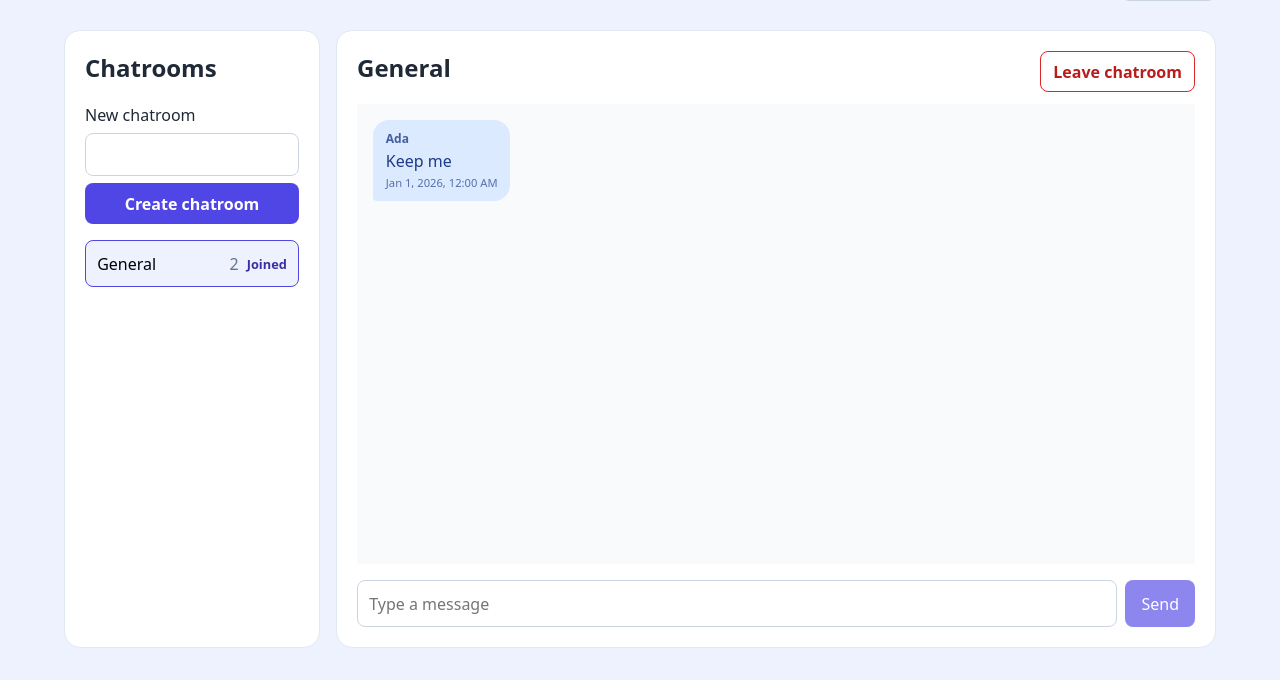
Test case: preserves the active room when leaving fails
The width and height of the screenshot is (1280, 680).
(page scrolled)
Type "unsent" into the field labelled "message".
click(737, 604); type("unsent")  # box [357,580,1118,627]
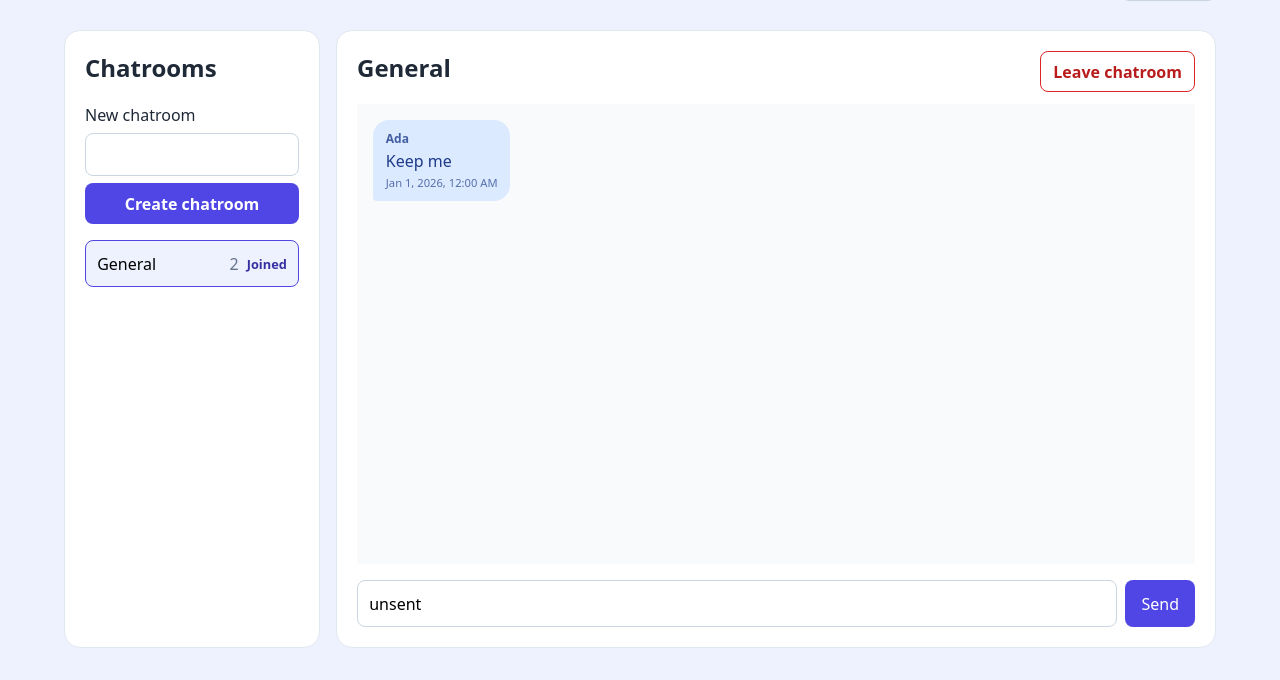
Click the button "Leave chatroom".
click(1118, 72)  # box [1040,51,1195,92]
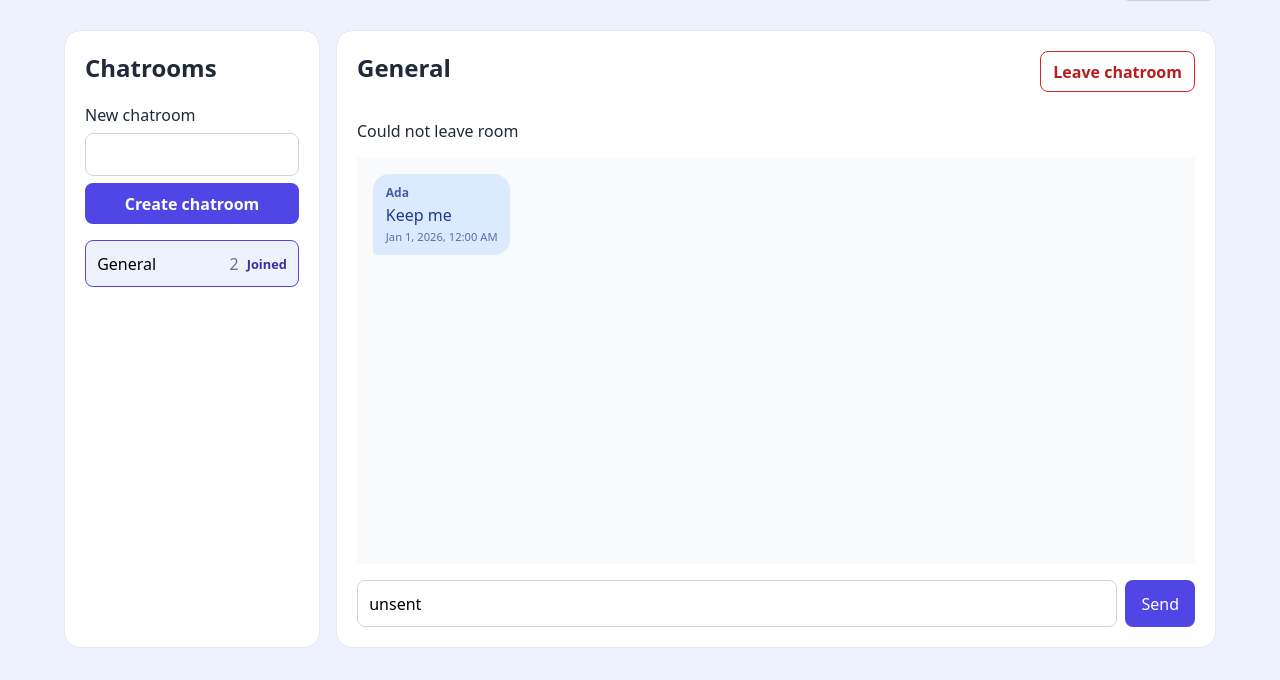
Check: the text "Keep me" is shown, box [386,204,452,226]
Check: the message reads "Could not leave room", box [357,120,518,142]
